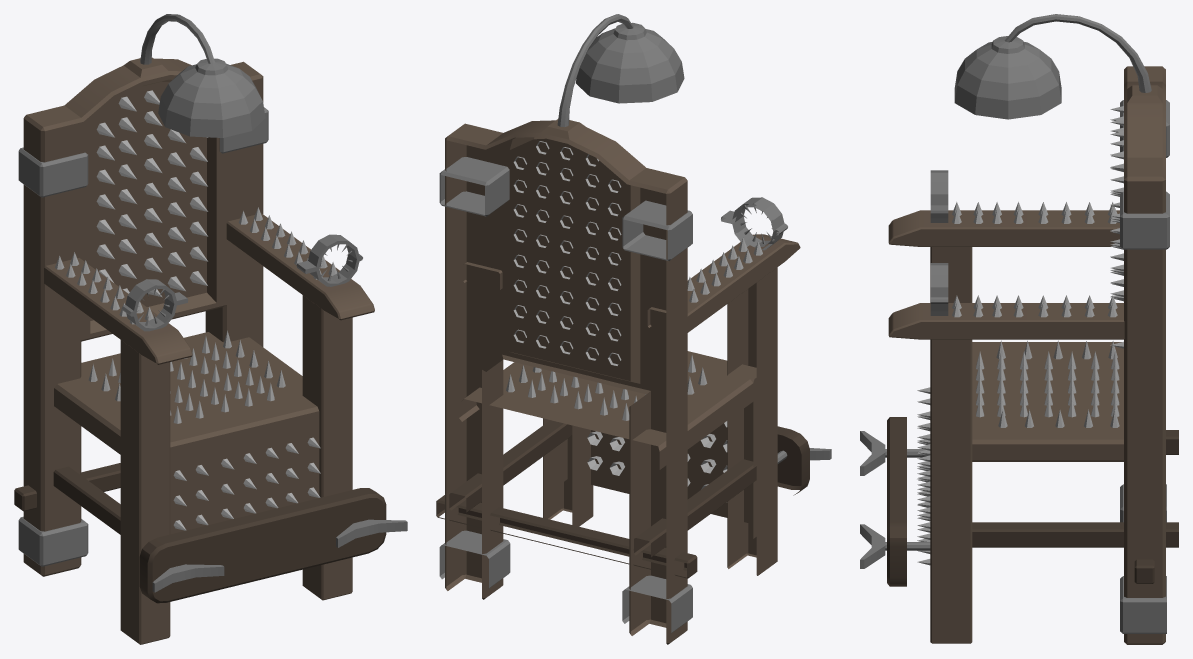
The model's file is Silla electrica.fbx.
3 renders of one model, left to right at view 1: azimuth 30°, elevation 25°; view 2: azimuth 150°, elevation 25°; view 3: azimuth 270°, elevation 25°, orthographic. The views are drawn at different scales.
Parts seen in each view (by area): view 1: Esc_Silla:polySurface658; view 2: Esc_Silla:polySurface658; view 3: Esc_Silla:polySurface658.
Boxes of the visible parts, bbox=[...] form: Esc_Silla:polySurface658: bbox=[14, 14, 407, 644]; Esc_Silla:polySurface658: bbox=[436, 14, 831, 644]; Esc_Silla:polySurface658: bbox=[860, 14, 1178, 644].
Size of the model in its own units: 190 by 398 by 199.
